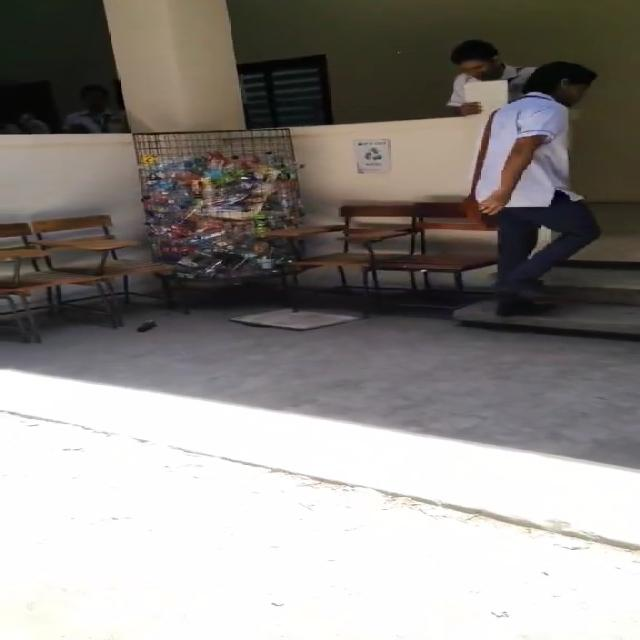Bottle: (136, 320, 157, 333)
